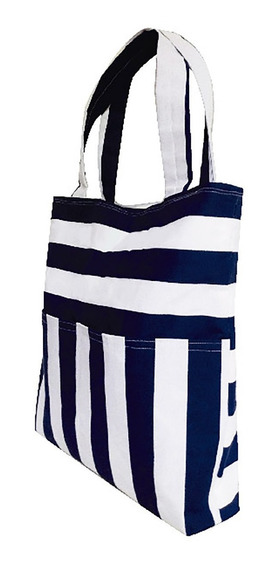cartera: (32, 29, 244, 538)
